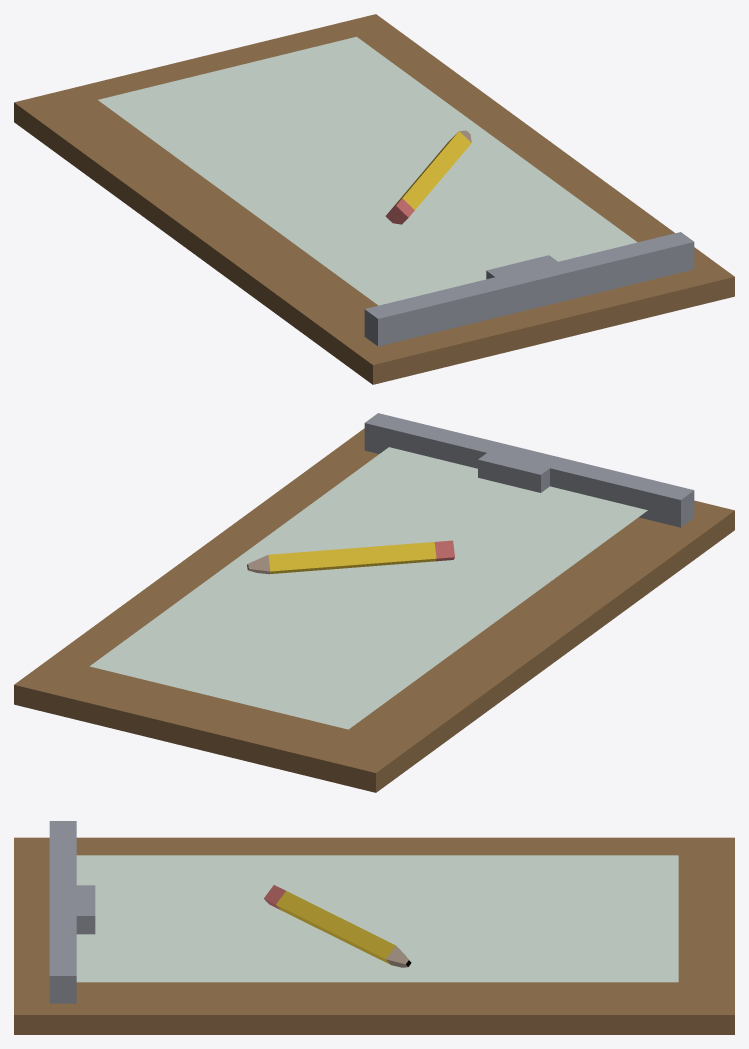
The model's file is Clipboard_01.fbx.
3 views of the same model, one above another, from view 1: azimuth 30°, elevation 25°; view 2: azimuth 150°, elevation 25°; view 3: azimuth 270°, elevation 25° (orthographic).
Parts seen in each view (by area): view 1: Clipboard_01, Clipboard-Pencil_01; view 2: Clipboard_01, Clipboard-Pencil_01; view 3: Clipboard_01, Clipboard-Pencil_01.
Boxes of the visible parts, <box> form: Clipboard_01: <box>14,14,734,384</box>; Clipboard-Pencil_01: <box>385,130,471,224</box>; Clipboard_01: <box>14,413,734,792</box>; Clipboard-Pencil_01: <box>247,540,454,574</box>; Clipboard_01: <box>14,821,734,1034</box>; Clipboard-Pencil_01: <box>264,885,411,967</box>.
Bounding box in the file's own units: 0.2825 × 0.0353 × 0.485.
